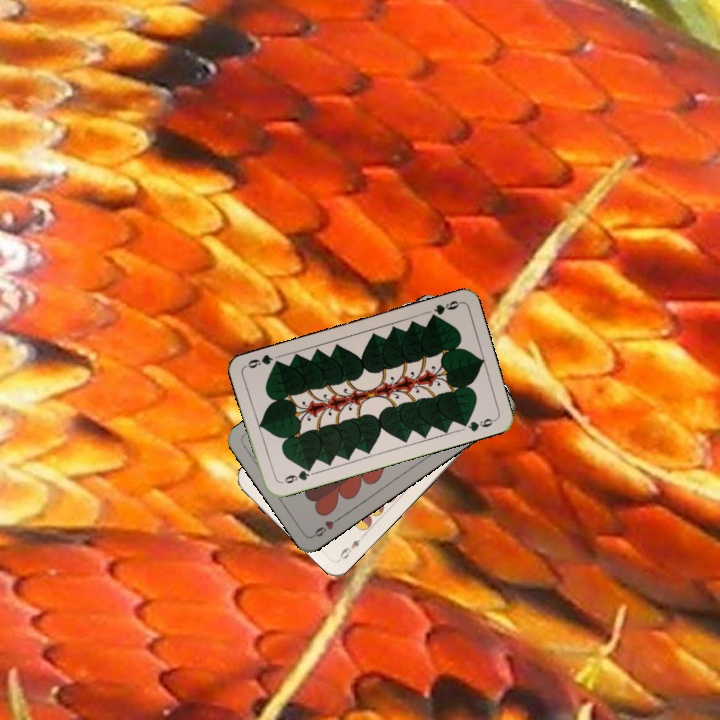E9: (335, 531, 367, 563)
G9: (425, 297, 463, 323), (280, 463, 315, 486)
H9: (309, 512, 345, 540)
